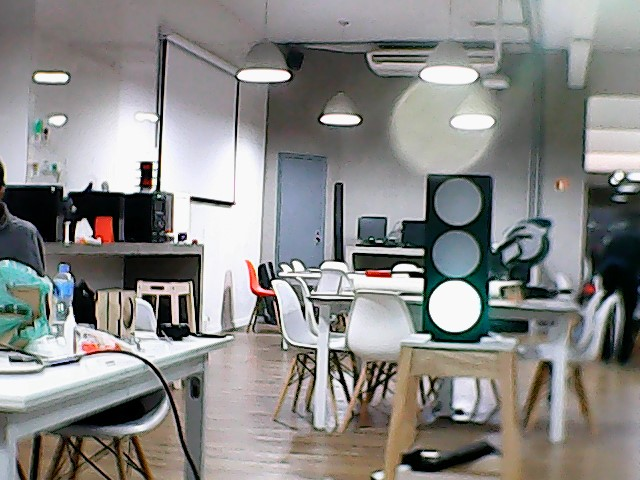verde: (420, 171, 496, 345)
